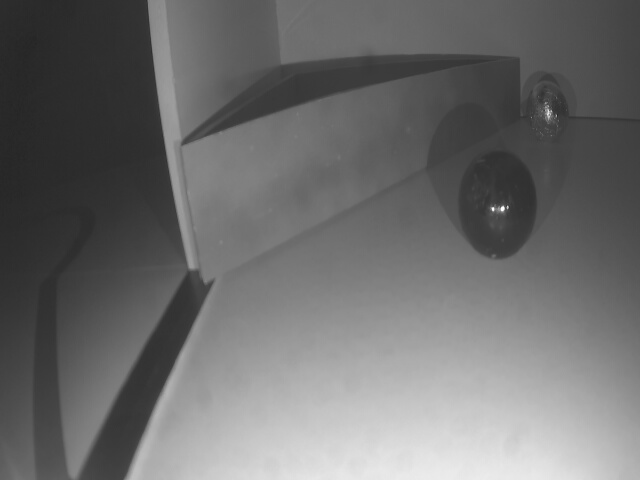Dead: (460, 150, 532, 259)
Live: (527, 78, 569, 142)
Red: (182, 58, 520, 288)
